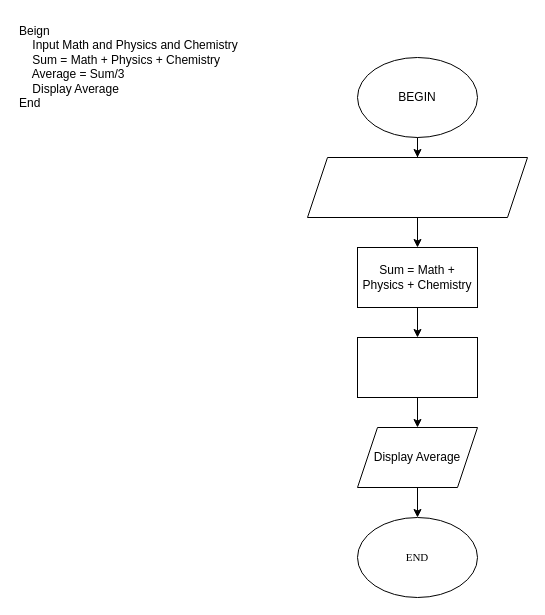
This 545x615 diagram has some shape labels left out. Here are the shapes that lost their labels. From the top down, the centre of each, then its label:
At pixel 417 187: "Math and Physics and Chemistry".
At pixel 417 367: "Average = Sum/3".
